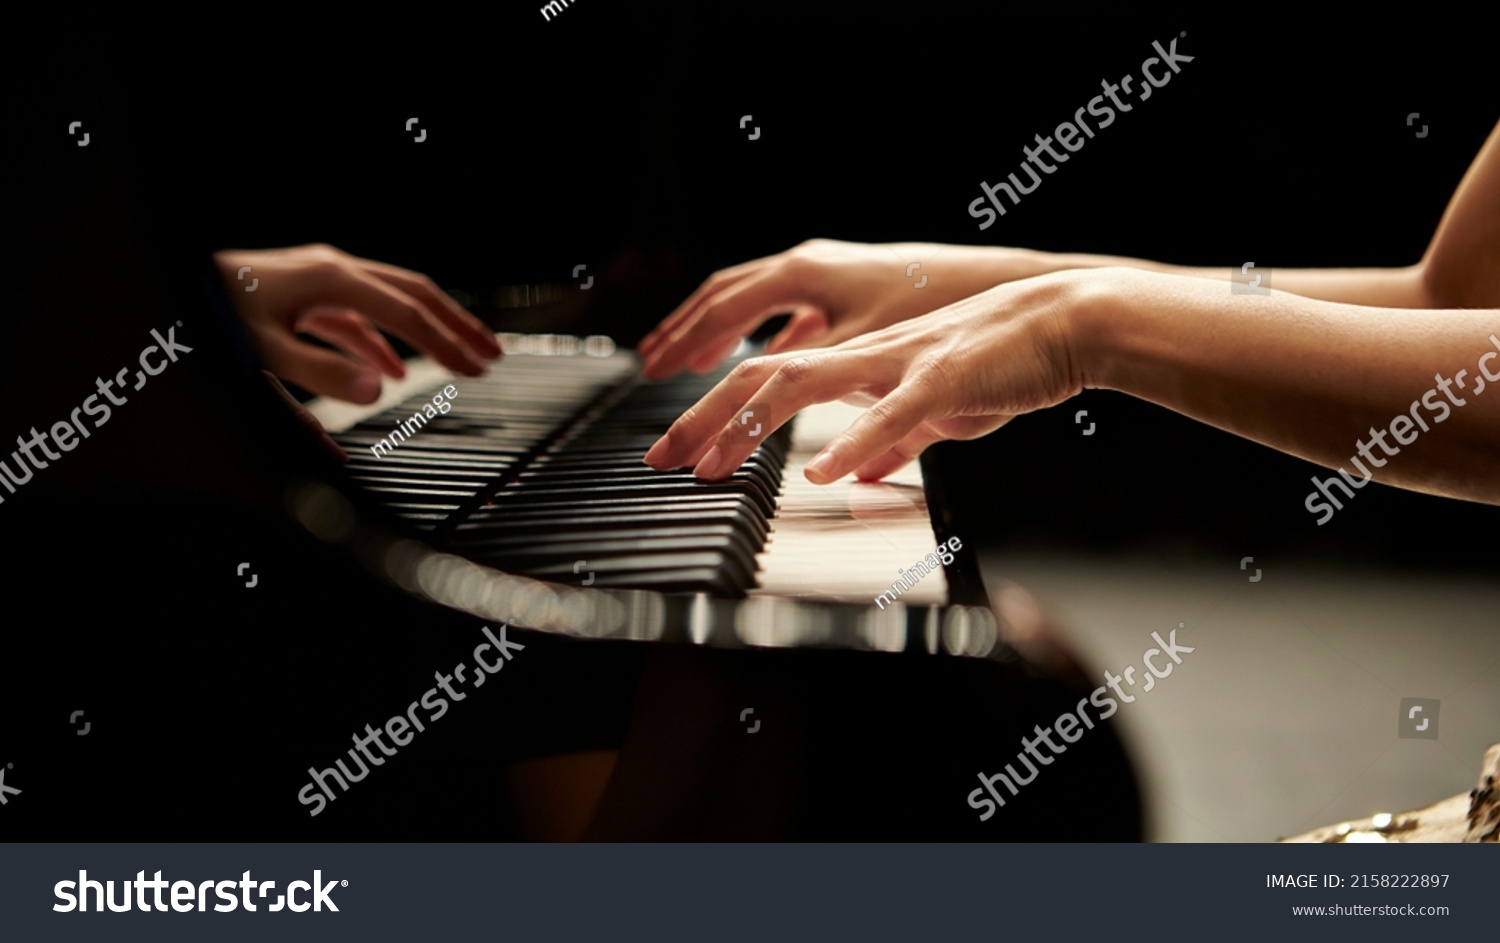Piano: (1, 105, 1109, 837)
